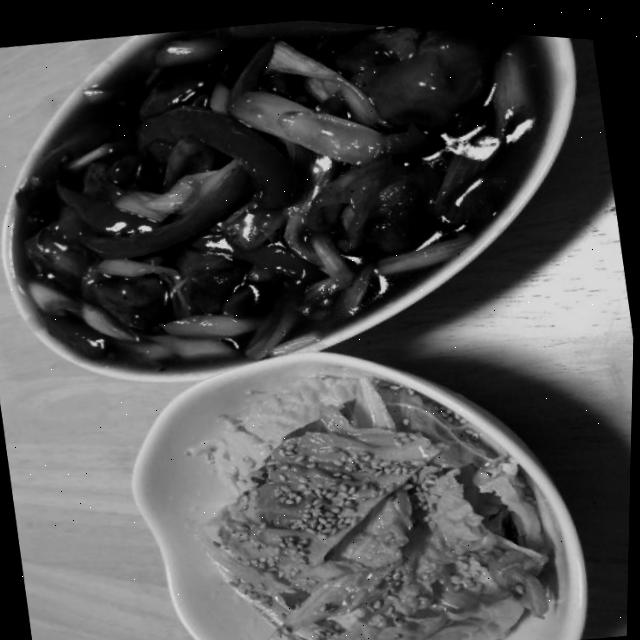猪肉菜式: (0, 0, 592, 416)
